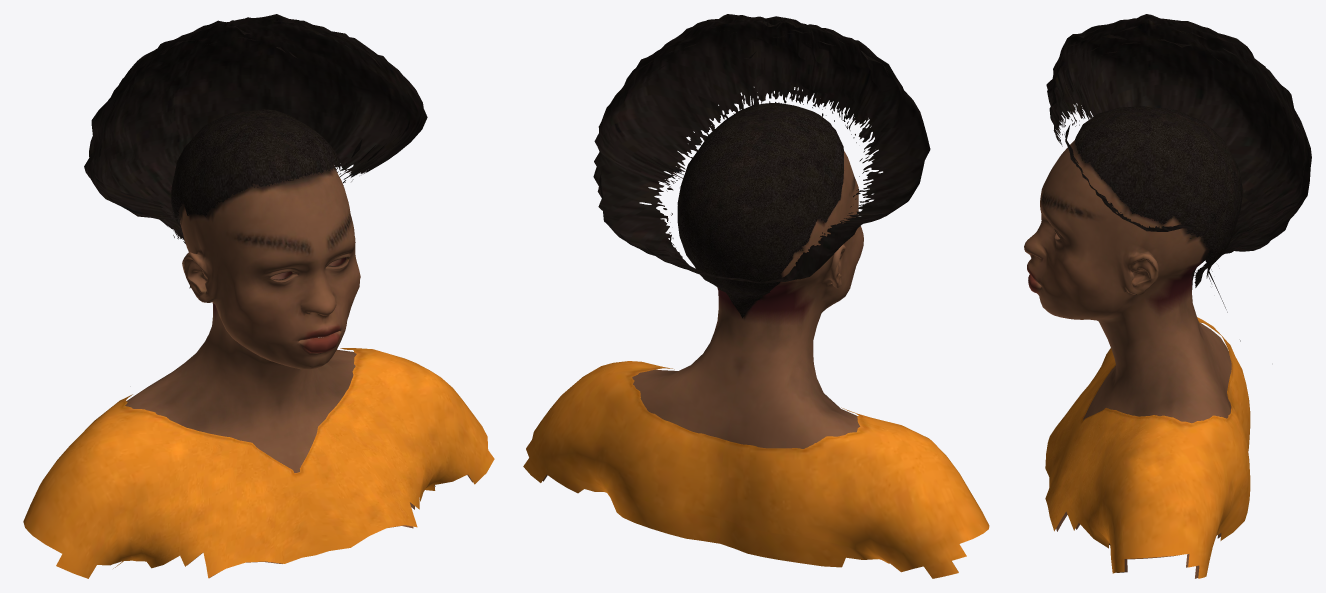
File: zara.glb
The picture shows the model from 3 angles, left to right: view 1: azimuth 30°, elevation 25°; view 2: azimuth 150°, elevation 25°; view 3: azimuth 270°, elevation 25°; orthographic projection. The views are drawn at different scales.
Visible parts, largest first — view 1: shirt, head, afro, hair; view 2: shirt, afro, head, hair; view 3: head, afro, shirt, hair.
Part boxes in pixels (left/top/right/bottom): shirt: left=23, top=348, right=494, bottom=578; head: left=110, top=164, right=472, bottom=578; afro: left=84, top=14, right=427, bottom=288; hair: left=171, top=109, right=340, bottom=229; shirt: left=523, top=361, right=989, bottom=578; afro: left=593, top=14, right=930, bottom=283; head: left=542, top=151, right=958, bottom=571; hair: left=677, top=102, right=843, bottom=318; head: left=1024, top=140, right=1231, bottom=578; afro: left=1046, top=14, right=1311, bottom=341; shirt: left=1045, top=317, right=1250, bottom=578; hair: left=1074, top=106, right=1243, bottom=287.
Bounding box in the file's own units: 4.6 × 4.79 × 2.74.
6 materials, 4 textured.
